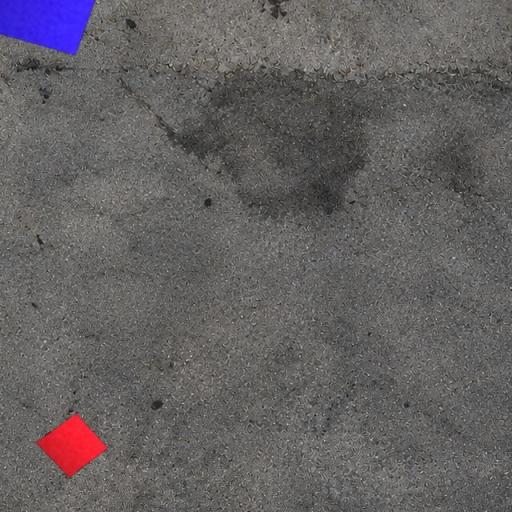BLUE_SQUARE: (0, 0, 109, 56)
RED_SQUARE: (35, 413, 109, 478)
